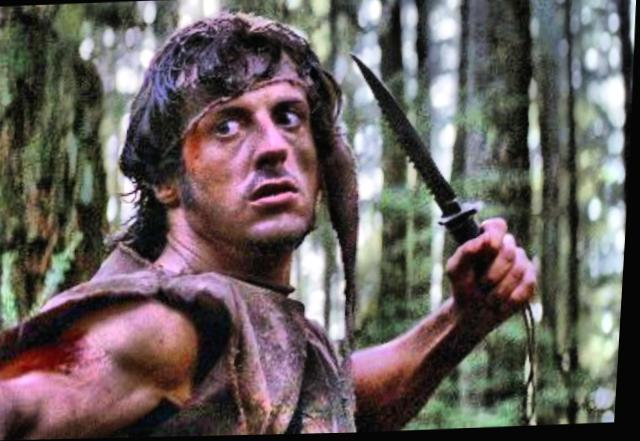knife: (330, 37, 558, 310)
